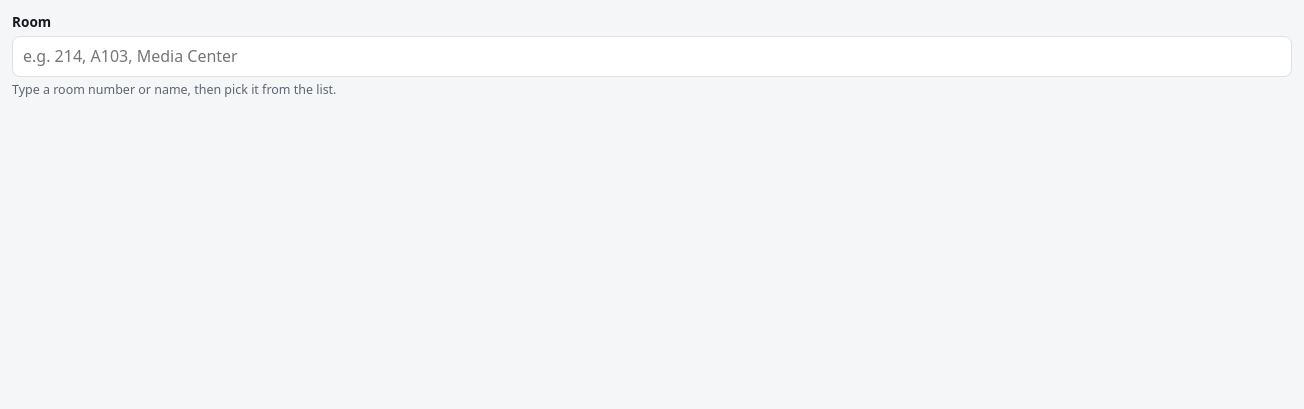
it: RoomPicker › stores the school with a room picked from the list
Type "A10" into the dropdown labelled "Room" at (652,56), box [12,36,1292,77]
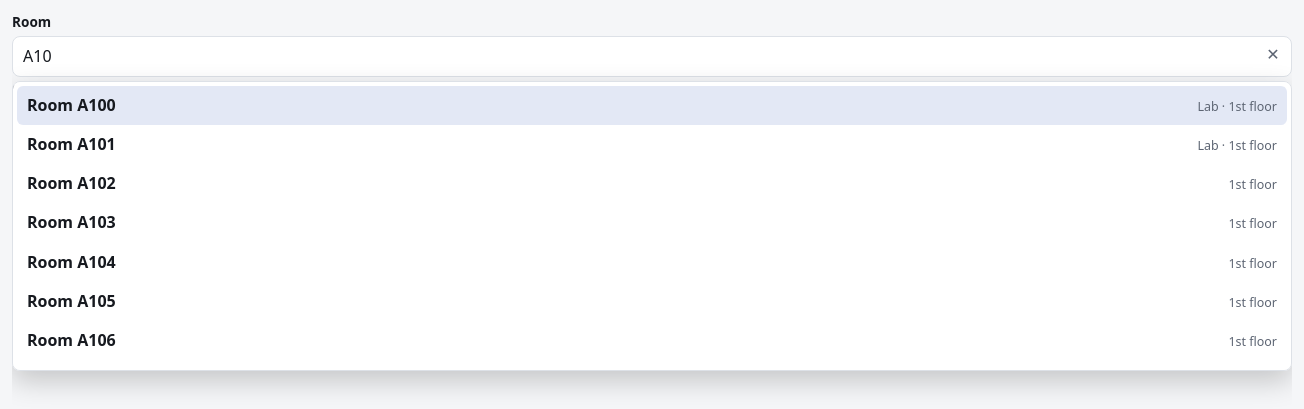
Click the option "Room A104 1st floor" at (71,262), box [27,251,1277,273]
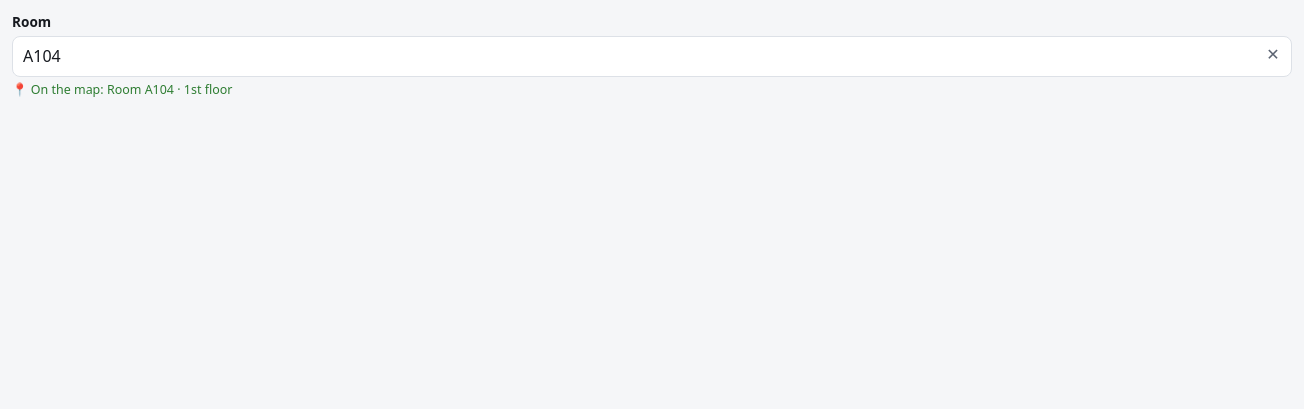
Expected: the text "📍 On the map: Room A104 · 1st floor" is shown, [12,81,232,98]
